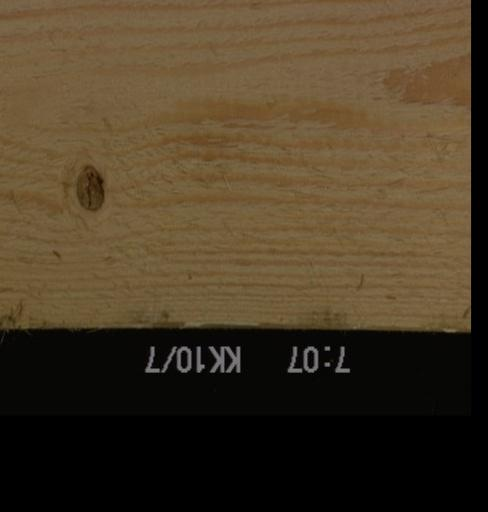wave: (92, 316, 282, 329)
